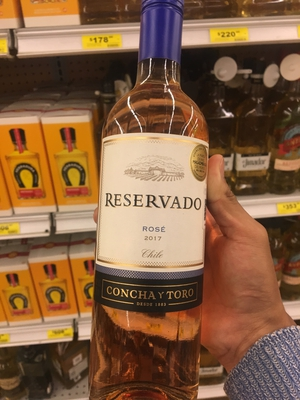reservado rose: (94, 12, 214, 400)
